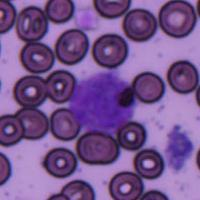B: (67, 68, 136, 136)
